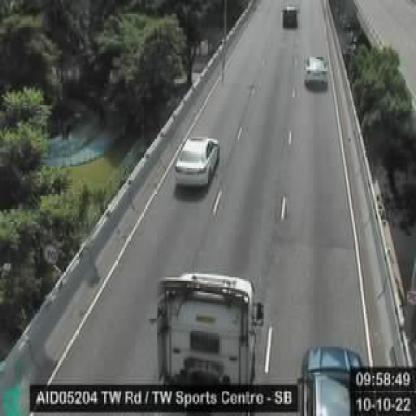Car: (172, 135, 220, 192), (304, 54, 328, 90), (284, 5, 300, 29)
Truck: (154, 271, 261, 396)
